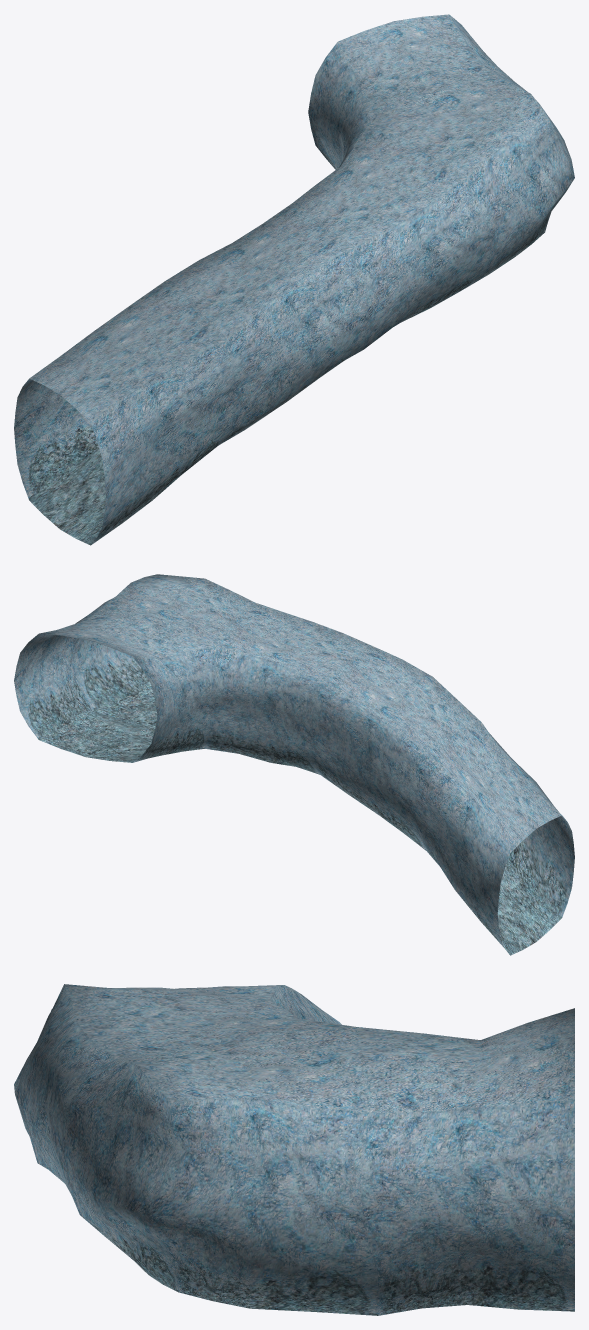
File: thm_all_cave_s03_ice_r17_r17.fbx
3 views of the same model, one above another, from view 1: azimuth 30°, elevation 25°; view 2: azimuth 150°, elevation 25°; view 3: azimuth 270°, elevation 25° (orthographic). The views are drawn at different scales.
Visible parts, largest first — view 1: mesh_node; view 2: mesh_node; view 3: mesh_node.
Boxes of the visible parts, <box> form: mesh_node: <box>14,14,574,545</box>; mesh_node: <box>14,574,574,955</box>; mesh_node: <box>14,984,574,1315</box>.
Size of the model in its own units: 32.95 by 19.86 by 18.36.
